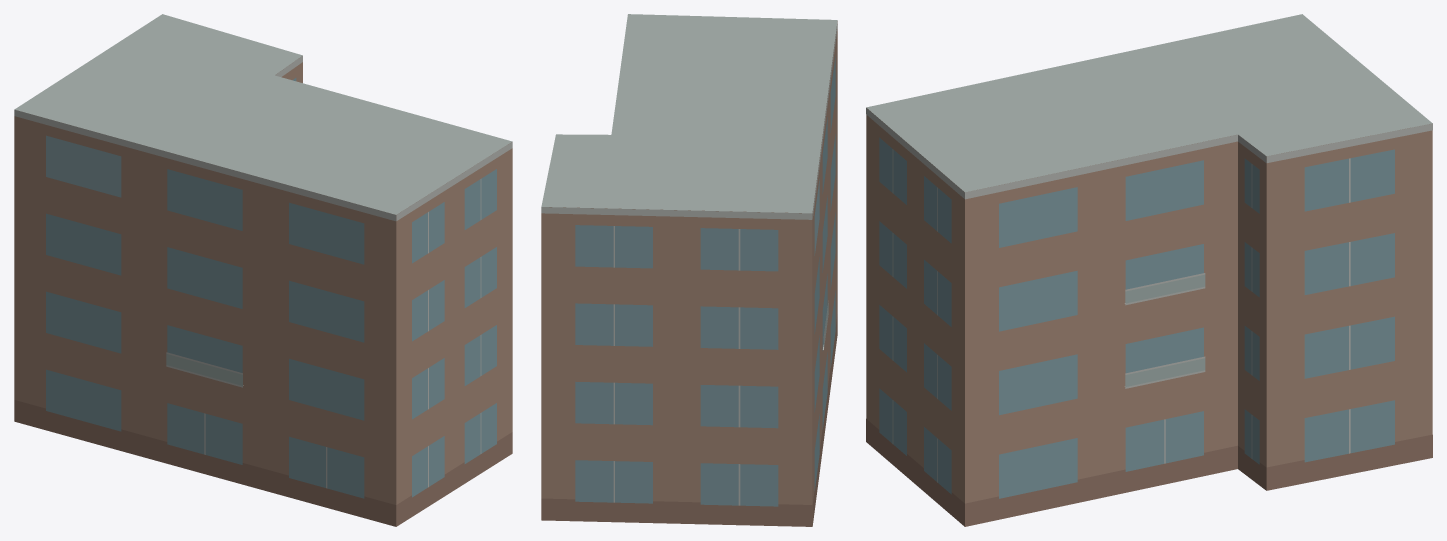
The model's file is survey-upis-32702404.glb.
3 renders of one model, left to right at view 1: azimuth 30°, elevation 25°; view 2: azimuth 150°, elevation 25°; view 3: azimuth 270°, elevation 25°, orthographic. The views are drawn at different scales.
Visible parts, largest first — view 1: survey-upis-32702404.tmp; view 2: survey-upis-32702404.tmp; view 3: survey-upis-32702404.tmp.
Part boxes in pixels (bbox=[...]): survey-upis-32702404.tmp: bbox=[14, 14, 512, 526]; survey-upis-32702404.tmp: bbox=[541, 14, 837, 526]; survey-upis-32702404.tmp: bbox=[866, 14, 1432, 526].
Bounding box in the file's own units: 13.39 × 11.7 × 17.97.
